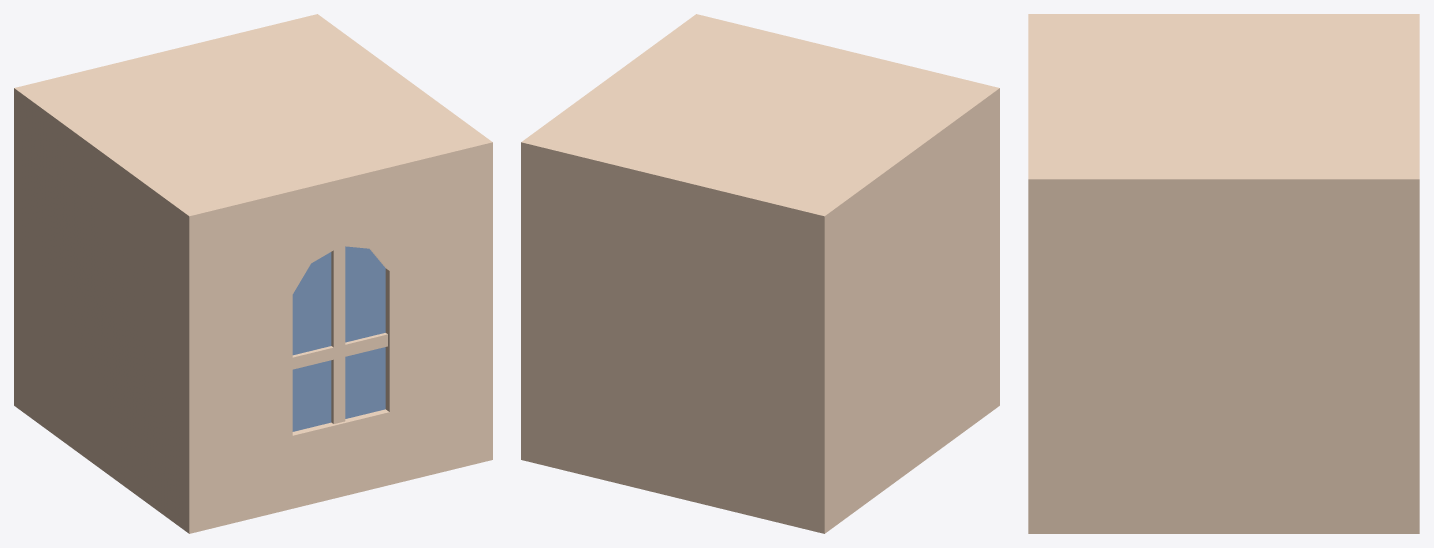
Rendered from Abstract_Castle_Block_1_Unit_Beige_Window_01.fbx.
The picture shows the model from 3 angles, left to right: view 1: azimuth 30°, elevation 25°; view 2: azimuth 150°, elevation 25°; view 3: azimuth 270°, elevation 25°; orthographic projection. The views are drawn at different scales.
Visible parts, largest first — view 1: Abstract_Castle_Block_1_Unit_Beige_Window_01; view 2: Abstract_Castle_Block_1_Unit_Beige_Window_01; view 3: Abstract_Castle_Block_1_Unit_Beige_Window_01.
Part boxes in pixels (box(x1,y1,x2,y2)): Abstract_Castle_Block_1_Unit_Beige_Window_01: box(14, 14, 492, 533); Abstract_Castle_Block_1_Unit_Beige_Window_01: box(521, 14, 999, 533); Abstract_Castle_Block_1_Unit_Beige_Window_01: box(1028, 14, 1419, 533).
Size of the model in its own units: 98.43 by 98.43 by 98.43.
